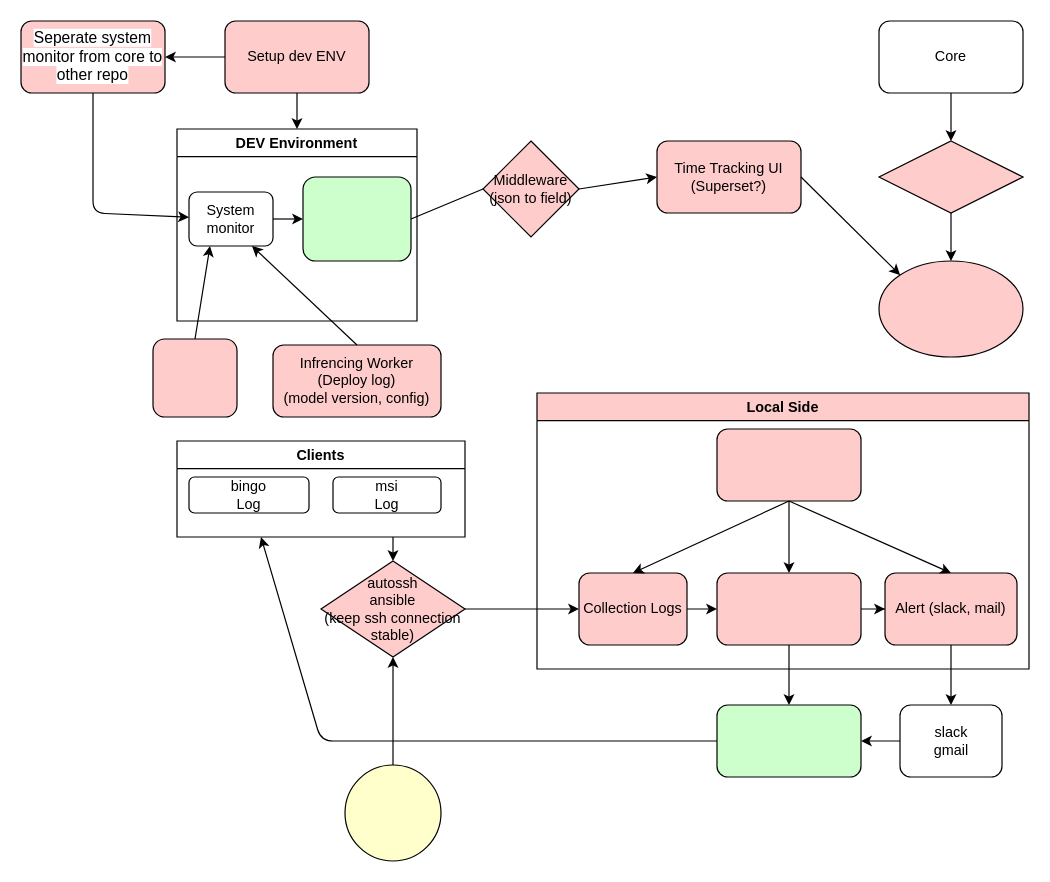
The diagram is 1050 pixels wide and 882 high, and some of its shapes have lost their labels. Here are the shapes that lost their labels. From the top down, the centre of each, then its label:
At point (950, 176): "shortcut".
At point (356, 218): "Coredb Log".
At point (950, 308): "Template SuperSet".
At point (194, 377): "Swarm (service version controll)".
At point (788, 464): "(Operation system monitor management machine) Logs".
At point (788, 608): "Operation Dashboard (Super set, grafana?)".
At point (788, 740): "Fix Issues".
At point (392, 812): "monitor (ssh connection)".
